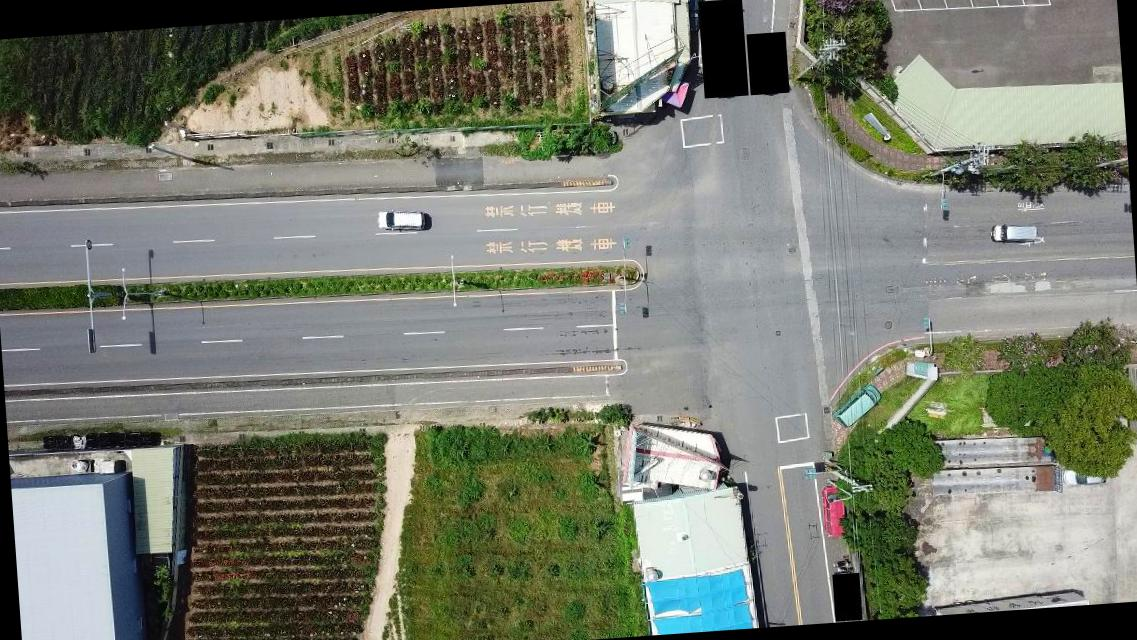vehicle: (834, 384, 883, 428), (820, 482, 848, 537), (374, 207, 425, 233), (1060, 462, 1112, 487), (990, 223, 1040, 246), (686, 0, 707, 31)
